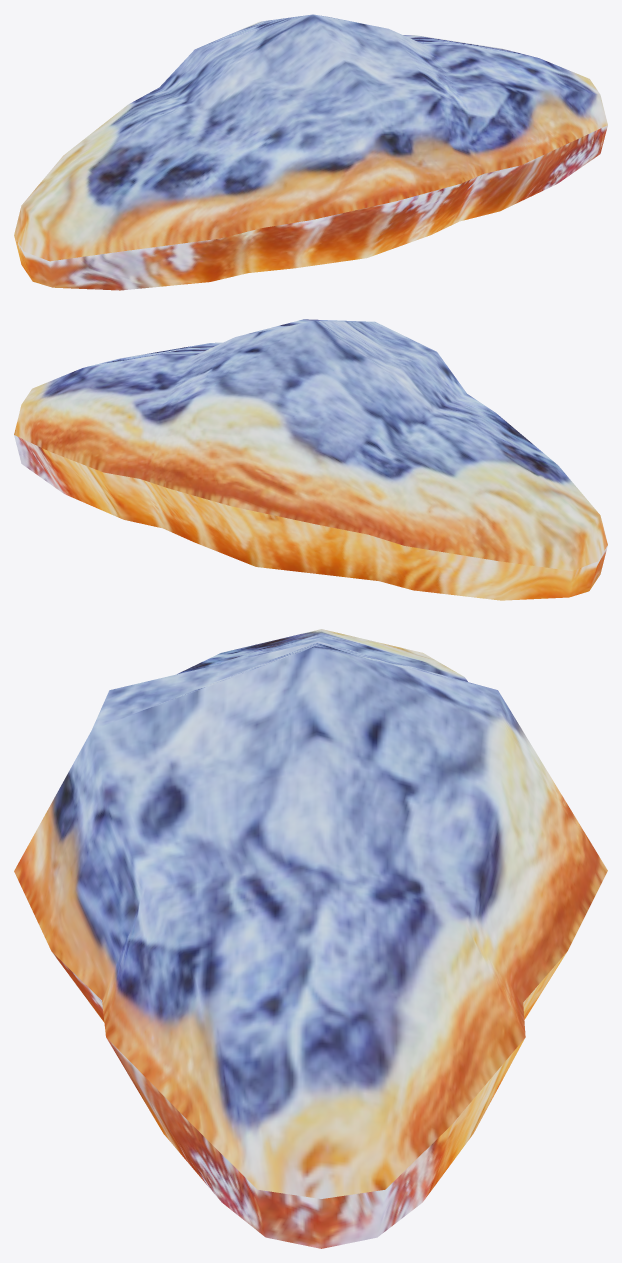
The picture shows the model from 3 angles, top to bottom: view 1: azimuth 30°, elevation 25°; view 2: azimuth 150°, elevation 25°; view 3: azimuth 270°, elevation 25°; orthographic projection. The views are drawn at different scales.
Parts seen in each view (by area): view 1: bab2d06e16064619ac4f6ccf976f0d0a; view 2: bab2d06e16064619ac4f6ccf976f0d0a; view 3: bab2d06e16064619ac4f6ccf976f0d0a.
Boxes of the visible parts, <box> form: bab2d06e16064619ac4f6ccf976f0d0a: <box>14,14,607,290</box>; bab2d06e16064619ac4f6ccf976f0d0a: <box>14,319,607,600</box>; bab2d06e16064619ac4f6ccf976f0d0a: <box>14,629,607,1248</box>.
Size of the model in its own units: 1 by 0.3698 by 0.5013.
1 material, 1 textured.
